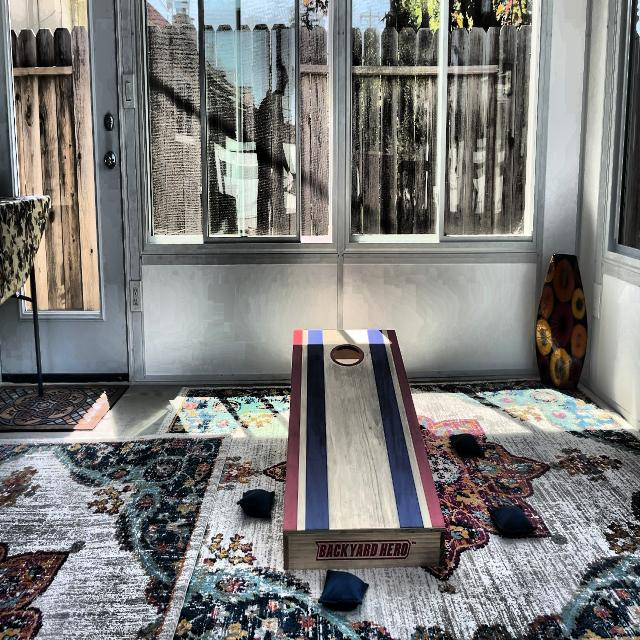blue-bean-bag: (320, 569, 370, 611), (487, 504, 534, 534), (237, 488, 276, 520), (449, 432, 483, 457)
board: (292, 330, 409, 530)
hole: (330, 342, 364, 367)
